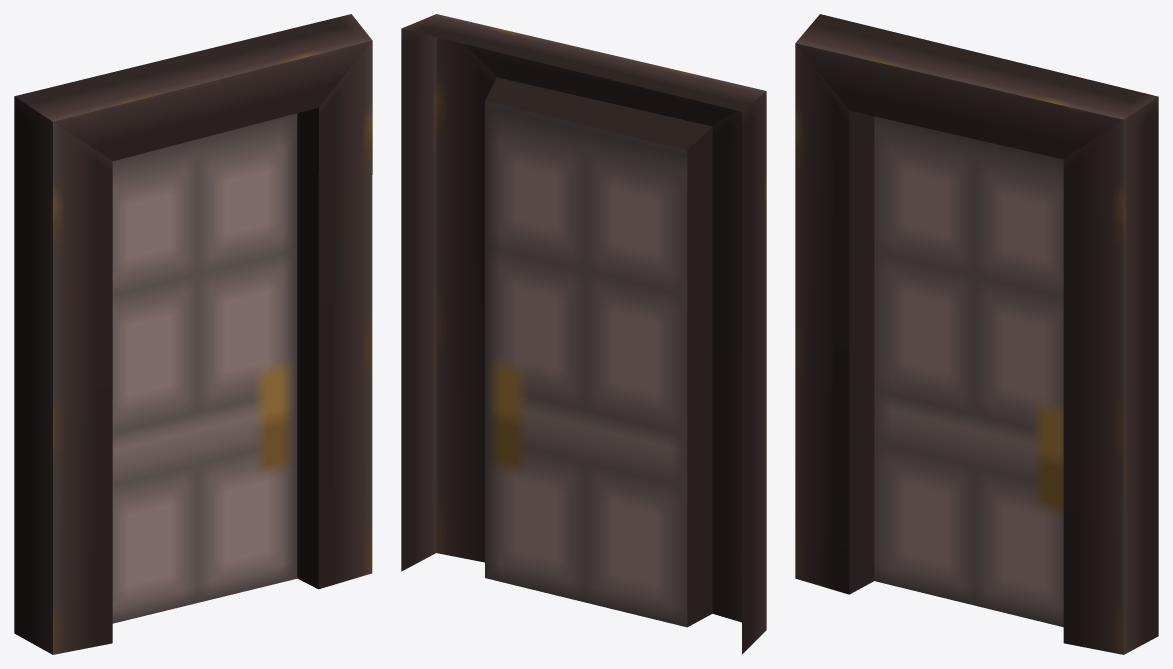
The model's file is door_v6_001.fbx.
3 renders of one model, left to right at view 1: azimuth 30°, elevation 25°; view 2: azimuth 150°, elevation 25°; view 3: azimuth 330°, elevation 25°, orthographic.
Parts seen in each view (by area): view 1: door_v6_001; view 2: door_v6_001; view 3: door_v6_001.
Boxes of the visible parts, bbox=[...] form: door_v6_001: bbox=[14, 14, 372, 654]; door_v6_001: bbox=[401, 14, 766, 654]; door_v6_001: bbox=[795, 14, 1158, 654].
Bounding box in the file's own units: 118 × 179 × 20.9.
